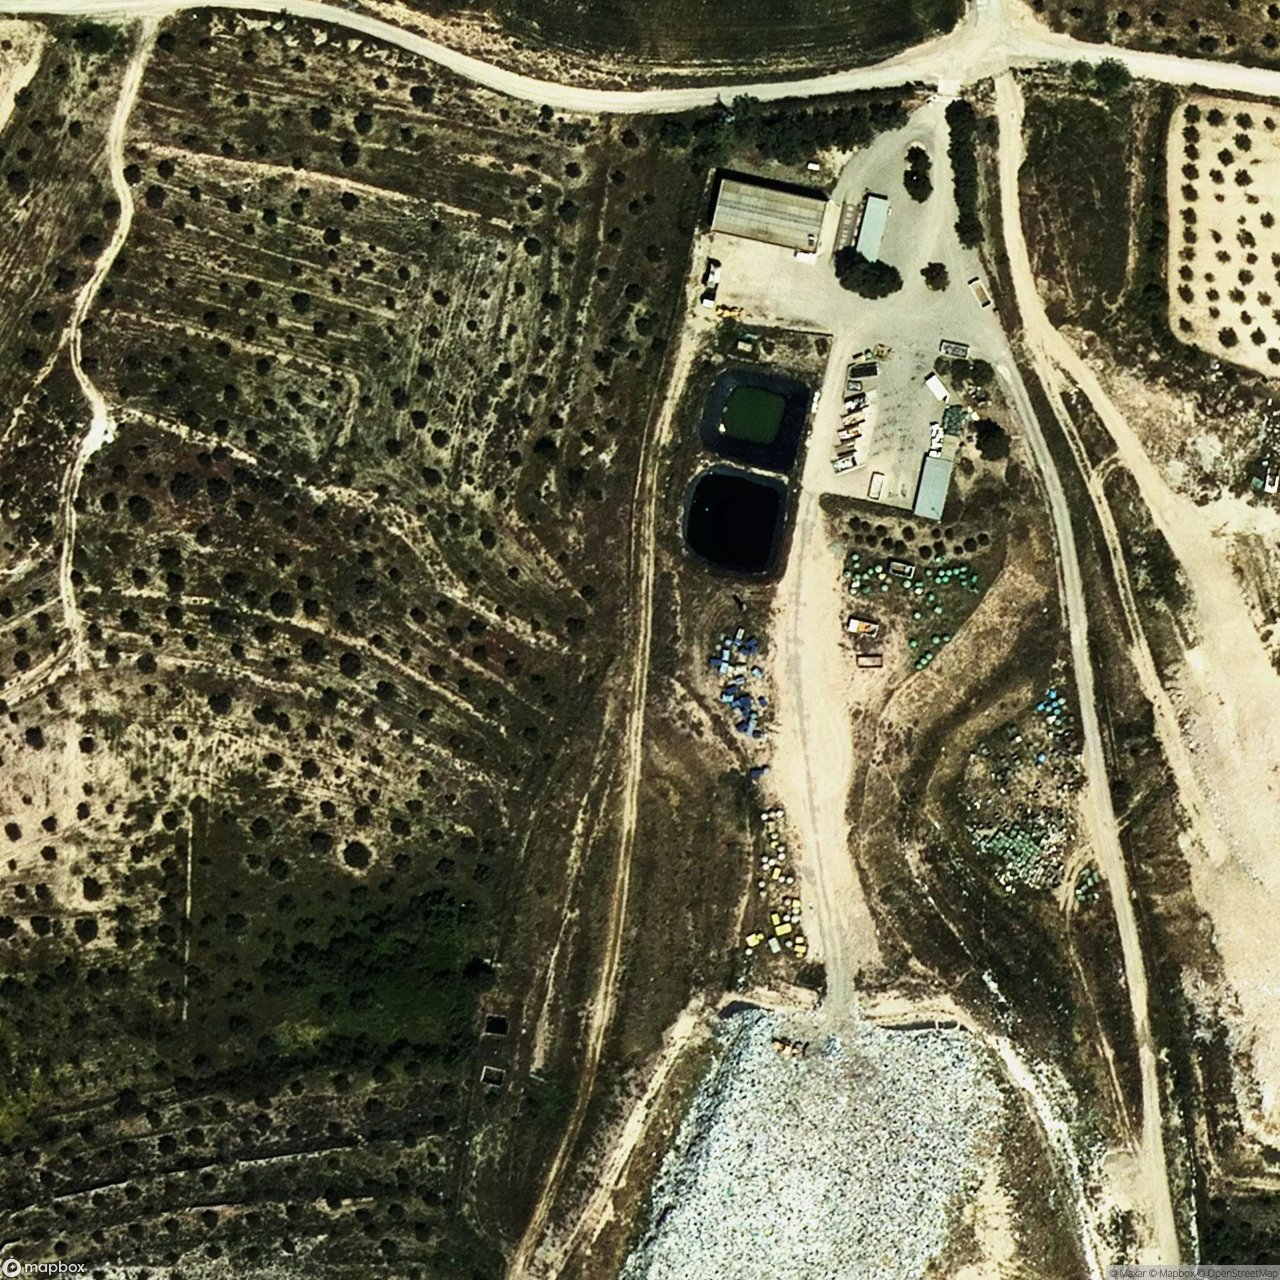dump_site: (599, 1007, 1030, 1280), (954, 690, 1099, 908)
